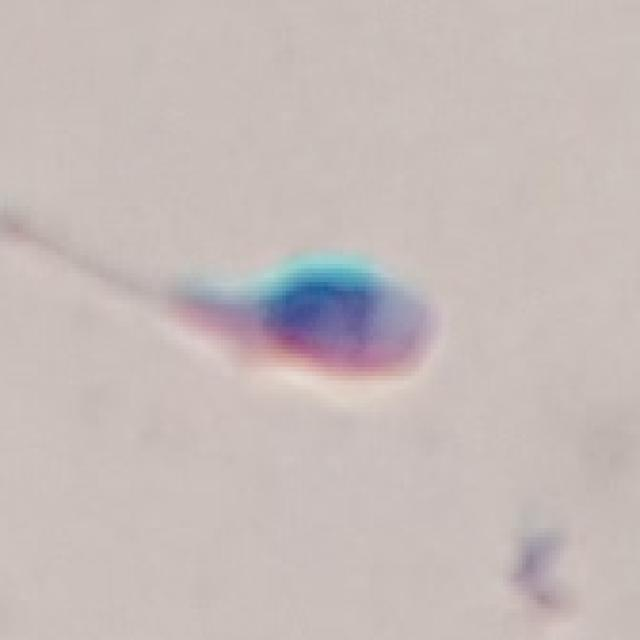abnormal sperm: (61, 242, 439, 396)
